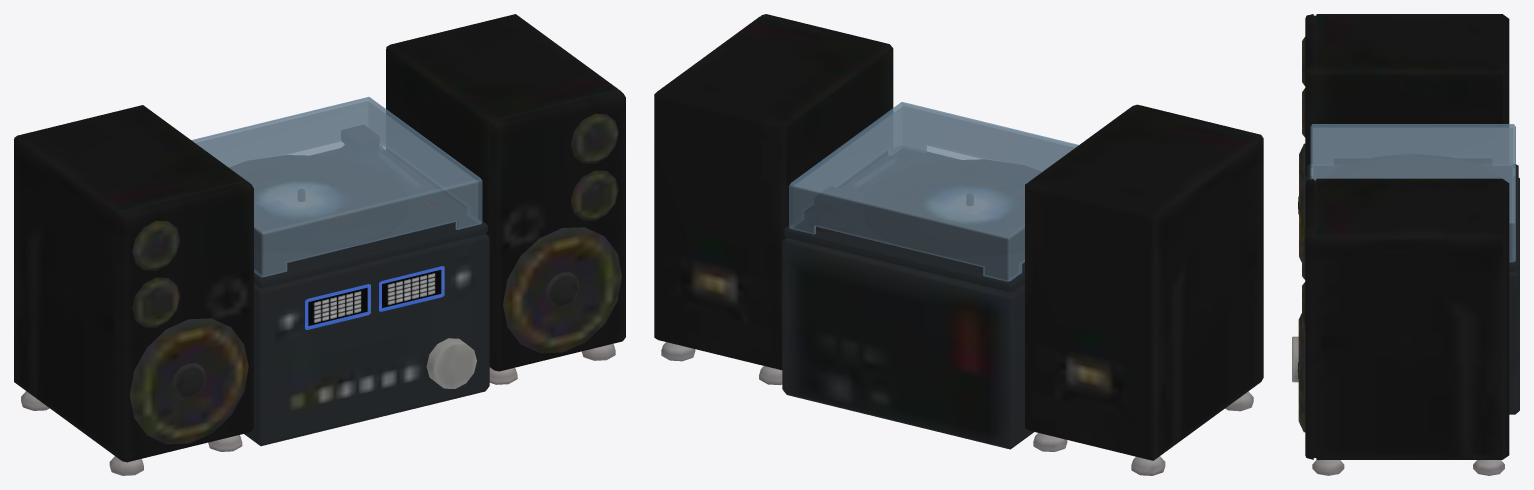
3 renders of one model, left to right at view 1: azimuth 30°, elevation 25°; view 2: azimuth 150°, elevation 25°; view 3: azimuth 270°, elevation 25°, orthographic. The views are drawn at different scales.
Size of the model in its own units: 16 by 8.07 by 6.9.
4 materials, 3 textured.
